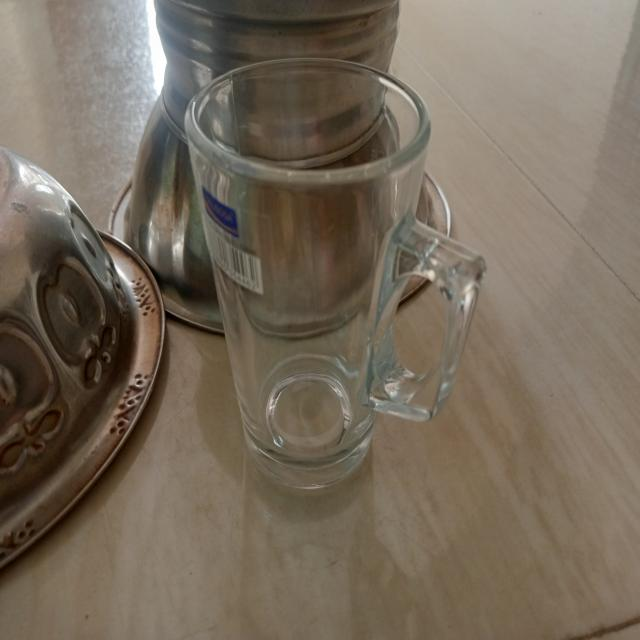glass-VX4N: (186, 54, 490, 498)
